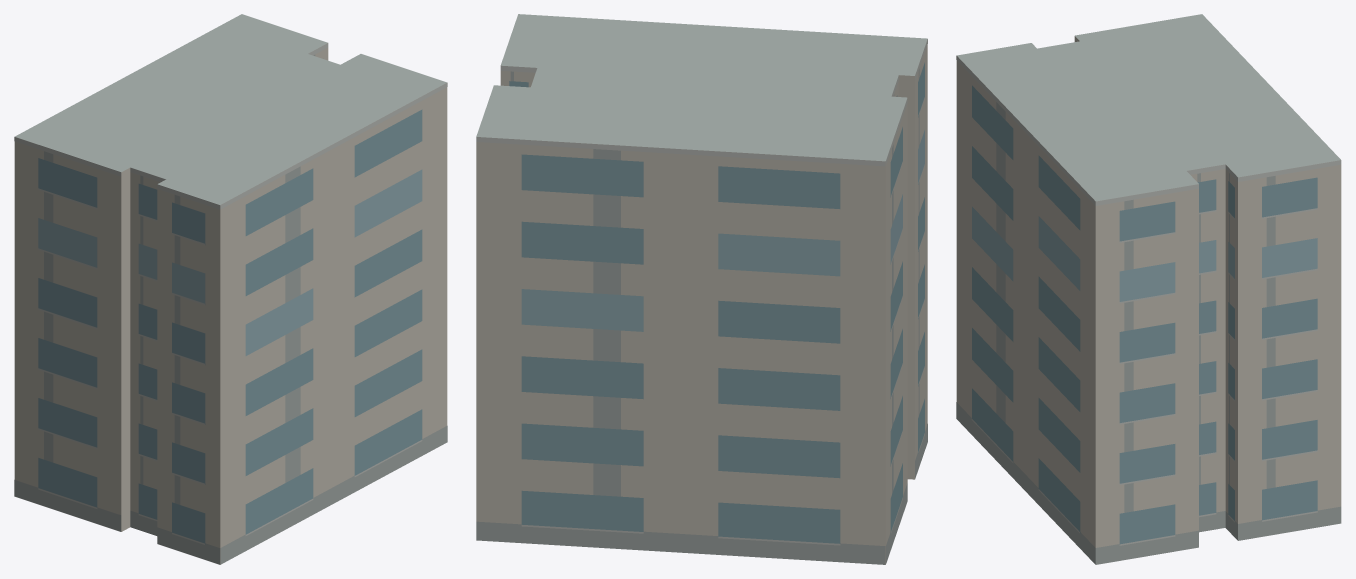
File: survey-upis-32549217.glb
3 renders of one model, left to right at view 1: azimuth 30°, elevation 25°; view 2: azimuth 150°, elevation 25°; view 3: azimuth 270°, elevation 25°, orthographic. The views are drawn at different scales.
Parts seen in each view (by area): view 1: survey-upis-32549217.tmp; view 2: survey-upis-32549217.tmp; view 3: survey-upis-32549217.tmp.
Part boxes in pixels (bbox=[...]): survey-upis-32549217.tmp: bbox=[14, 14, 447, 564]; survey-upis-32549217.tmp: bbox=[476, 14, 927, 564]; survey-upis-32549217.tmp: bbox=[956, 14, 1341, 564].
Size of the model in its own units: 21.2 by 19.15 by 18.39.
